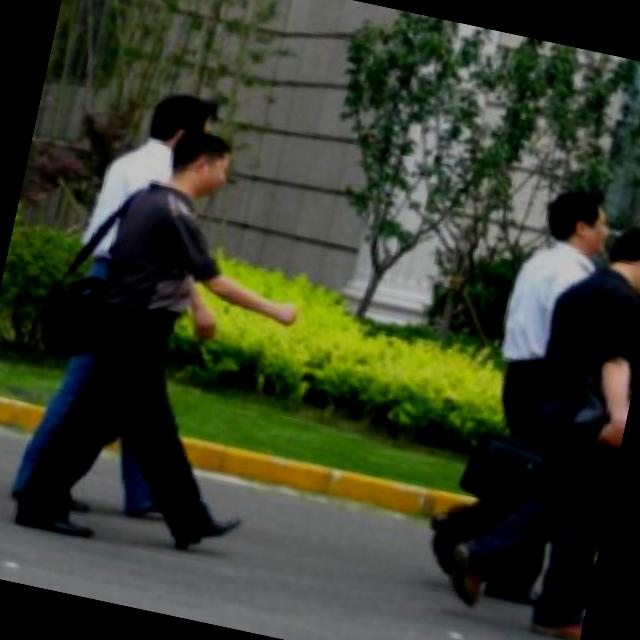Person: (3, 108, 332, 582), (0, 60, 235, 546), (434, 193, 640, 640), (419, 168, 623, 588)
